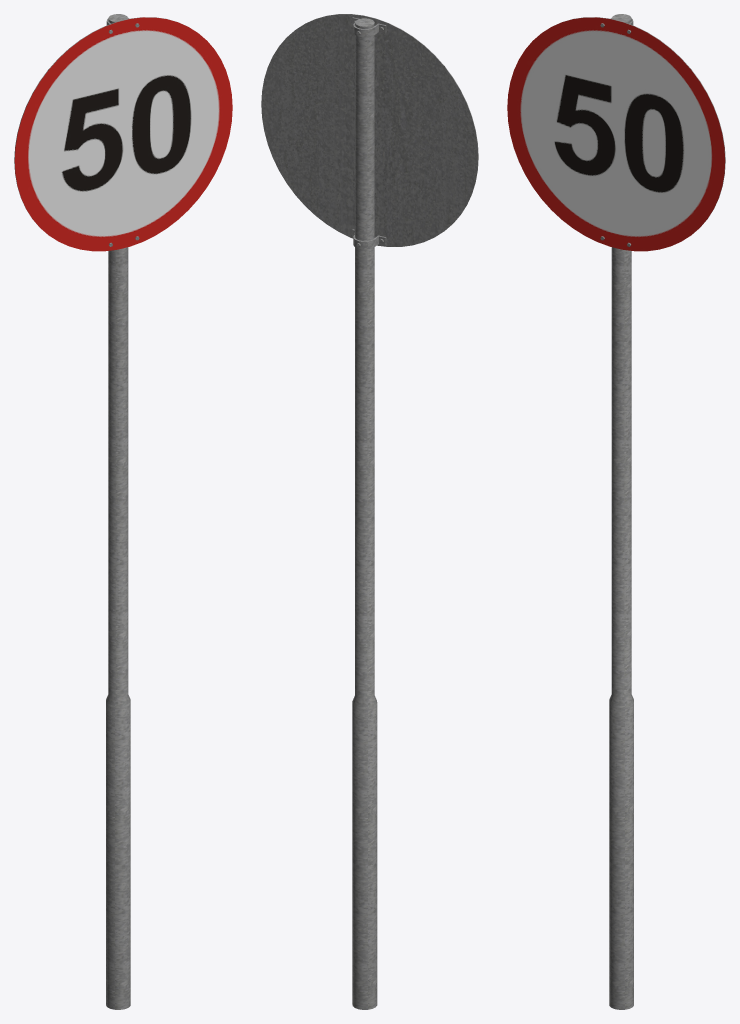
3 renders of one model, left to right at view 1: azimuth 30°, elevation 25°; view 2: azimuth 150°, elevation 25°; view 3: azimuth 330°, elevation 25°, orthographic.
Visible parts, largest first — view 1: traffic_signs-01.002; view 2: traffic_signs-01.002; view 3: traffic_signs-01.002.
Boxes of the visible parts, bbox=[...] form: traffic_signs-01.002: bbox=[14, 14, 232, 1009]; traffic_signs-01.002: bbox=[261, 14, 478, 1009]; traffic_signs-01.002: bbox=[507, 14, 725, 1009].
Bounding box in the file's own units: 1.2 × 5.2 × 0.1237.
